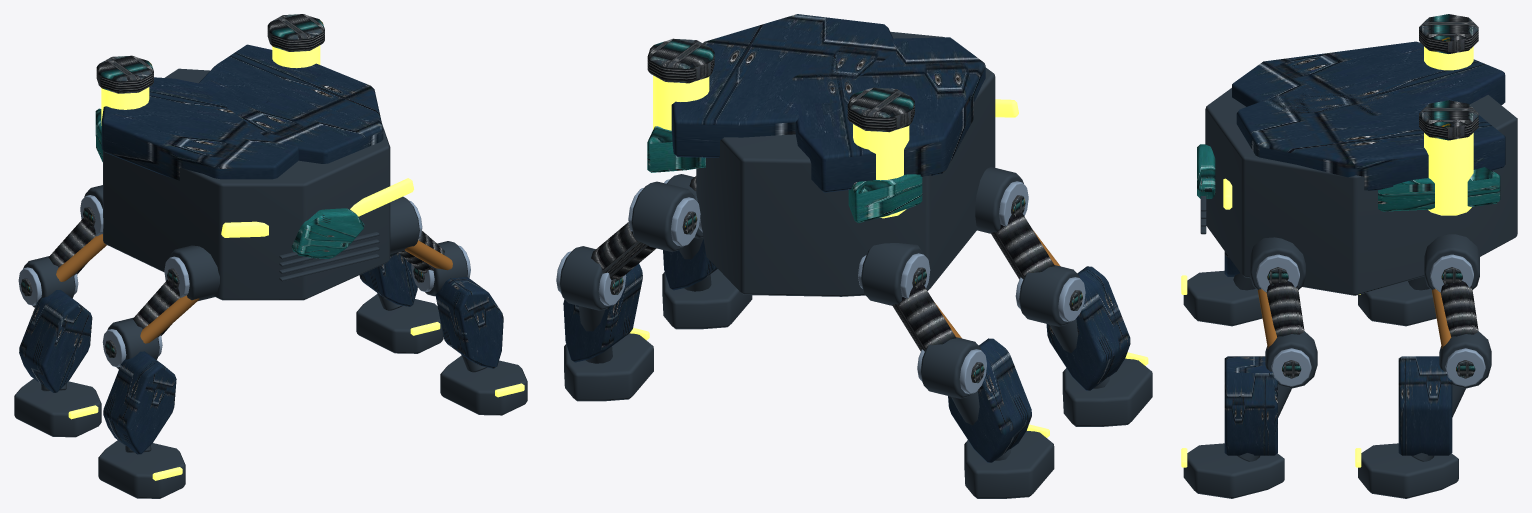
The model's file is quad.glb.
3 views of the same model, side by side, from view 1: azimuth 30°, elevation 25°; view 2: azimuth 150°, elevation 25°; view 3: azimuth 270°, elevation 25° (orthographic). The views are drawn at different scales.
Parts seen in each view (by area): view 1: Sloped crawler body, Layered beetle carapace, Servo housing.002, Servo housing.006, Swept crawler greave.001, Swept crawler greave, Servo housing, Swept crawler greave.003, Servo housing.004, Pressure capsule retainer, Swept cobalt shell, Swept crawler greave.002 (+11 smaller); view 2: Layered beetle carapace, Sloped crawler body, Servo housing, Servo housing.004, Servo housing.002, Swept crawler greave.001, Swept crawler greave, Pressure capsule retainer, Servo housing.006, Swept cobalt shell, Biome pressure capsule, Swept crawler greave.002 (+7 smaller); view 3: Sloped crawler body, Layered beetle carapace, Servo housing.004, Servo housing.006, Swept crawler greave.002, Swept crawler greave.003, Biome pressure capsule, Pressure capsule retainer, Swept cobalt shell, Servo housing.002, Servo housing, Hub.012 (+5 smaller).
Part boxes in pixels (x1,y1,x2,y2): Sloped crawler body: [103, 68, 390, 300]; Layered beetle carapace: [101, 44, 383, 180]; Servo housing.002: [98, 245, 219, 498]; Servo housing.006: [390, 196, 527, 415]; Swept crawler greave.001: [103, 351, 176, 454]; Swept crawler greave: [19, 290, 92, 392]; Servo housing: [14, 185, 102, 437]; Swept crawler greave.003: [435, 277, 503, 368]; Servo housing.004: [356, 293, 443, 353]; Pressure capsule retainer: [96, 14, 324, 93]; Swept cobalt shell: [95, 108, 364, 258]; Swept crawler greave.002: [359, 252, 417, 307]; Layered beetle carapace: [671, 14, 985, 192]; Sloped crawler body: [696, 31, 995, 296]; Servo housing: [861, 243, 1054, 498]; Servo housing.004: [559, 181, 695, 401]; Servo housing.002: [975, 167, 1152, 426]; Swept crawler greave.001: [1046, 266, 1130, 390]; Swept crawler greave: [948, 338, 1031, 462]; Pressure capsule retainer: [647, 38, 914, 132]; Servo housing.006: [662, 174, 752, 329]; Swept cobalt shell: [647, 126, 922, 222]; Biome pressure capsule: [653, 75, 909, 218]; Swept crawler greave.002: [563, 263, 642, 362]; Sloped crawler body: [1200, 88, 1517, 295]; Layered beetle carapace: [1232, 41, 1505, 190]; Servo housing.004: [1358, 234, 1491, 498]; Servo housing.006: [1183, 237, 1317, 498]; Swept crawler greave.002: [1398, 356, 1452, 455]; Swept crawler greave.003: [1224, 356, 1277, 455]; Biome pressure capsule: [1424, 46, 1473, 215]; Pressure capsule retainer: [1419, 14, 1478, 140]; Swept cobalt shell: [1197, 144, 1500, 211]; Servo housing.002: [1183, 270, 1262, 326]; Servo housing: [1358, 276, 1436, 326]; Hub.012: [1266, 267, 1304, 378].
Bounding box in the file's own units: 1.46 × 1.08 × 1.
8 materials, 3 textured.
